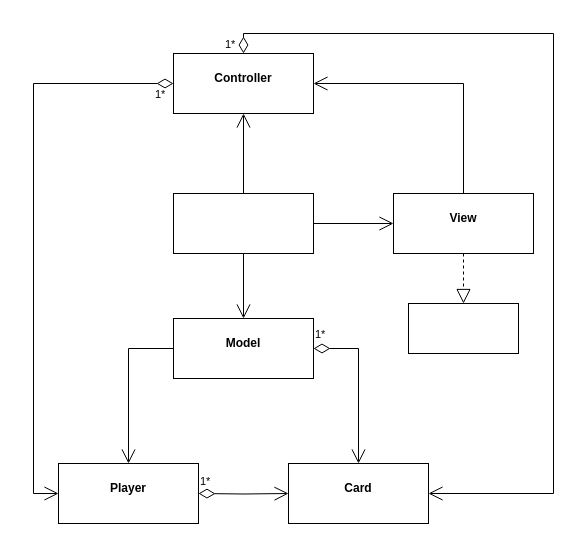
Some shapes in this 588 by 541 pixel diagram are drawn without their labels. Here are the shapes that lost their labels. From the top down, the centre of each, then its label:
At point 243,223: "Program".
At point 463,328: "«interface» IView".
